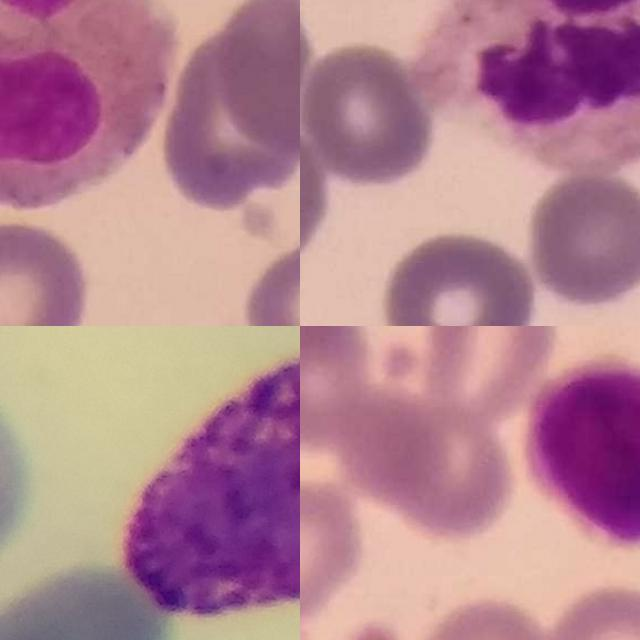Basophil: (121, 342, 300, 612)
Eosinophil: (0, 0, 181, 206)
Lymphocyte: (521, 355, 640, 552)
Neutrophil: (419, 0, 640, 175)
